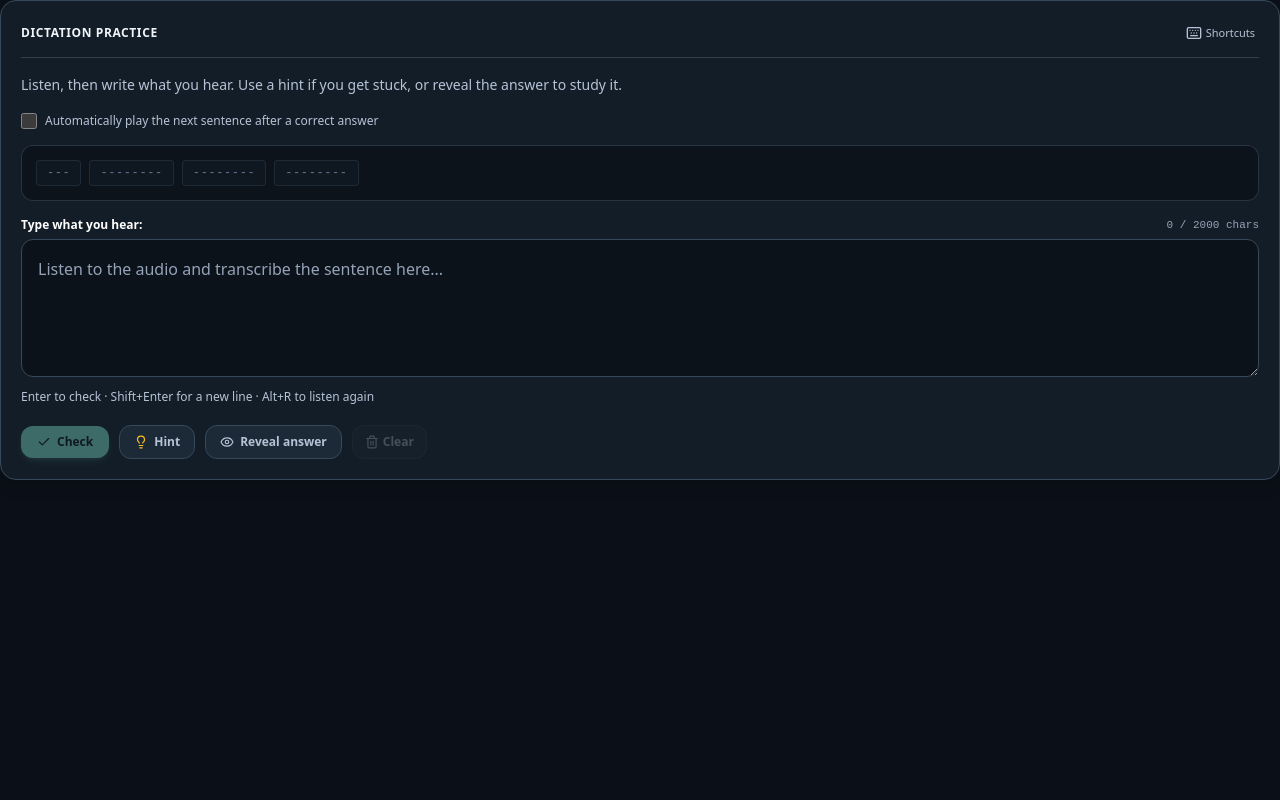
Test: DictationBox Component › handles Ctrl+Enter keyboard shortcut to submit dictation check
Type "I'm learning wrong vocabulary." into the text box labelled "Type what you hear:" at (640, 308), box [21,239,1259,377]
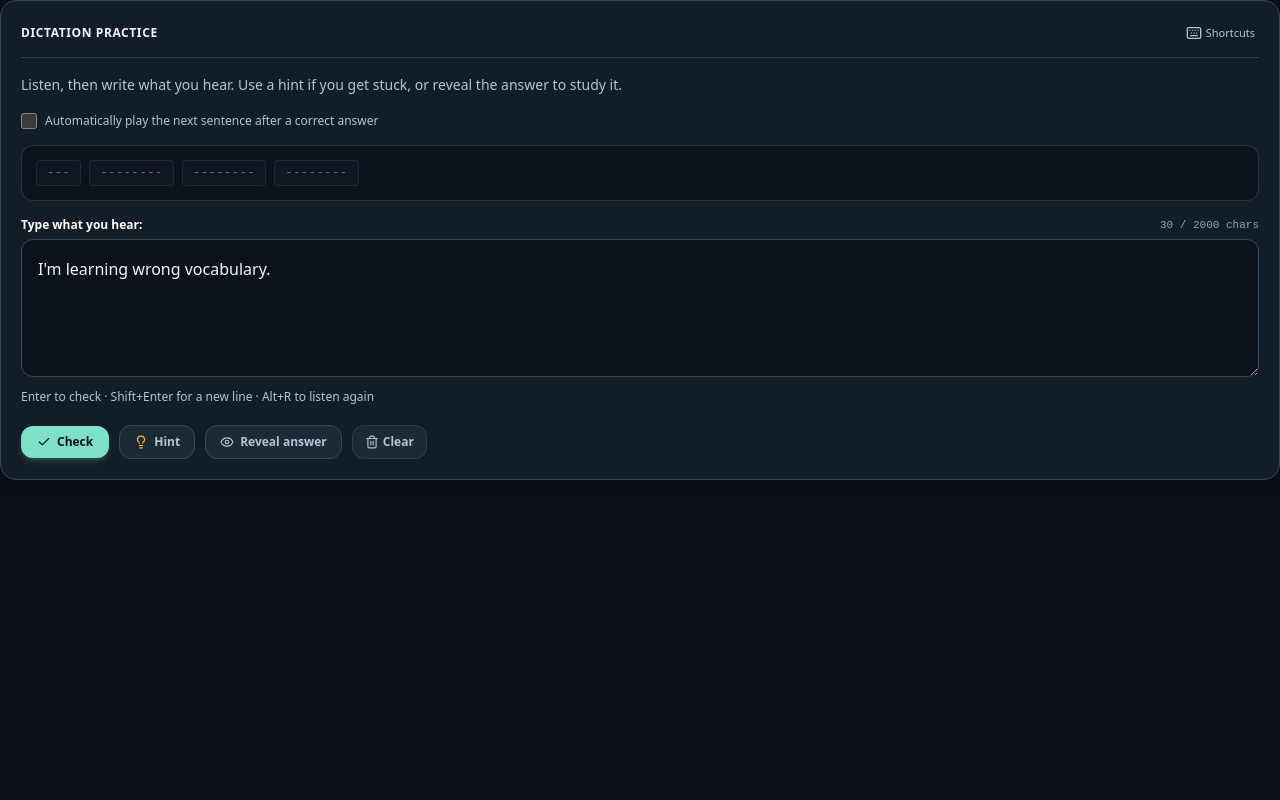
Note: Press Ctrl+Enter
Press Enter in the text box labelled "Type what you hear:", box [21,239,1259,377]
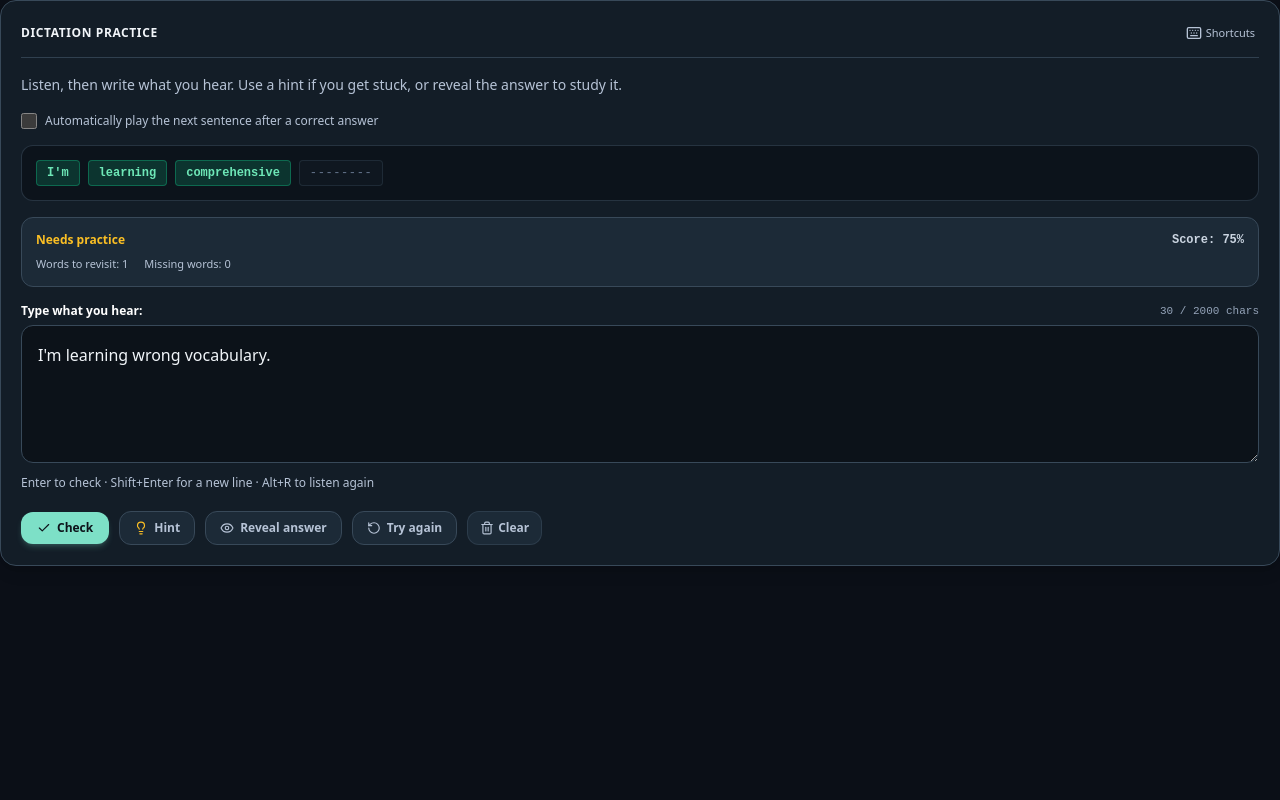
Result: the text "Needs practice" is shown at [36,232,125,248]
Result: the text "Words to revisit: 1" is shown at [36,256,128,272]
Result: the button "Try again" is shown at [352,511,457,545]
